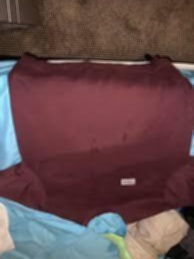oil: (88, 137, 101, 160), (119, 130, 128, 145)
